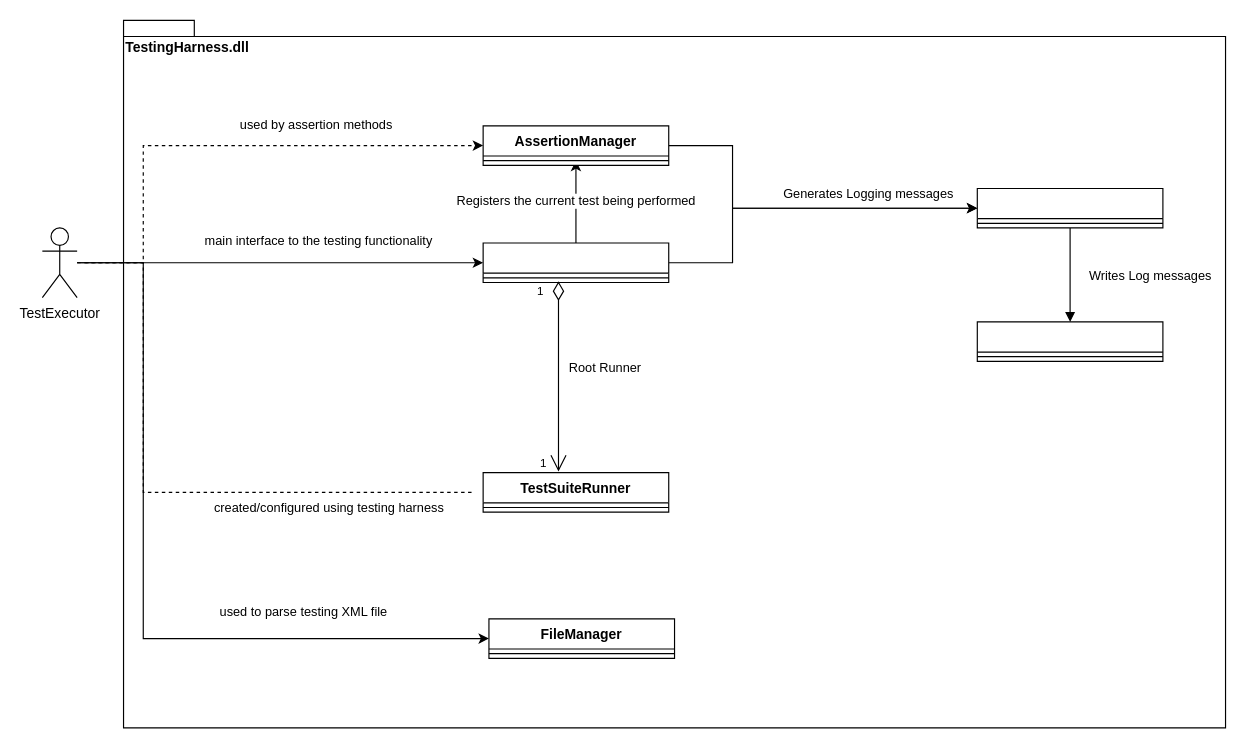
This 1246x748 diagram has some shape labels left out. The centre of each missing label's shape, as x and y in pixels:
"Logger" belongs at pixel 1069 341.
"TestHarness" belongs at pixel 575 262.
"TestLogger" belongs at pixel 1069 207.
